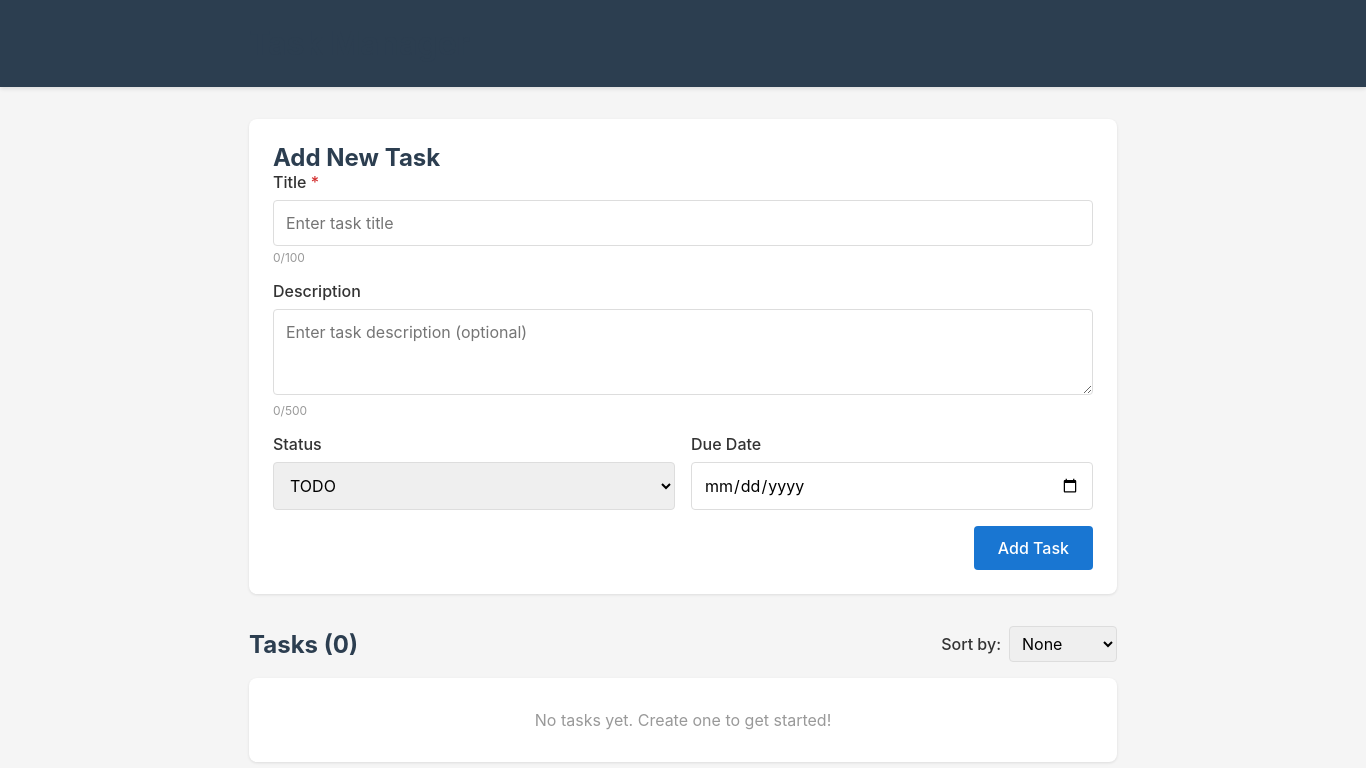
App Component › Create Task › should display custom error message from server
This screenshot has width=1366, height=768.
Type "New Task" into the field labelled "Title *".
click(683, 223); type("New Task")  # box [273, 200, 1093, 246]
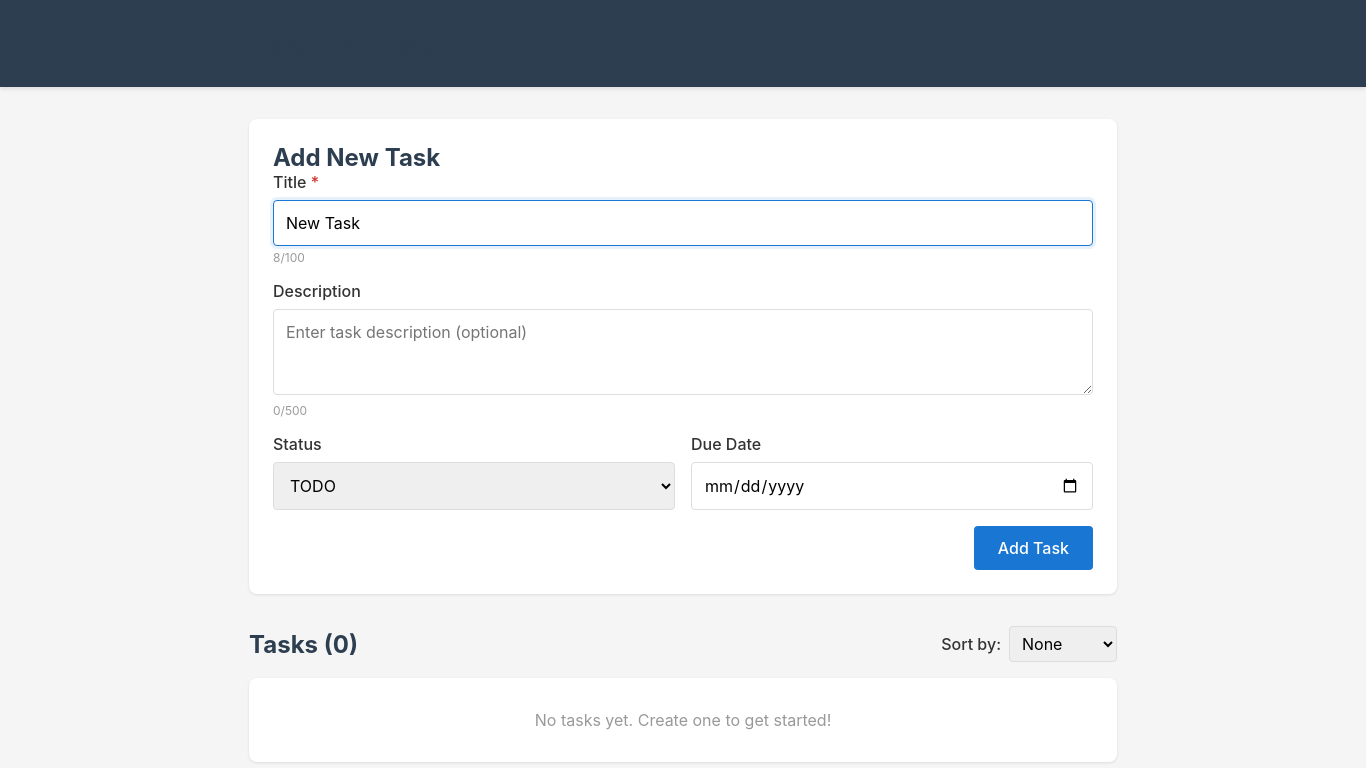
Click the button "Add Task".
click(1033, 548)  # box [974, 526, 1093, 570]
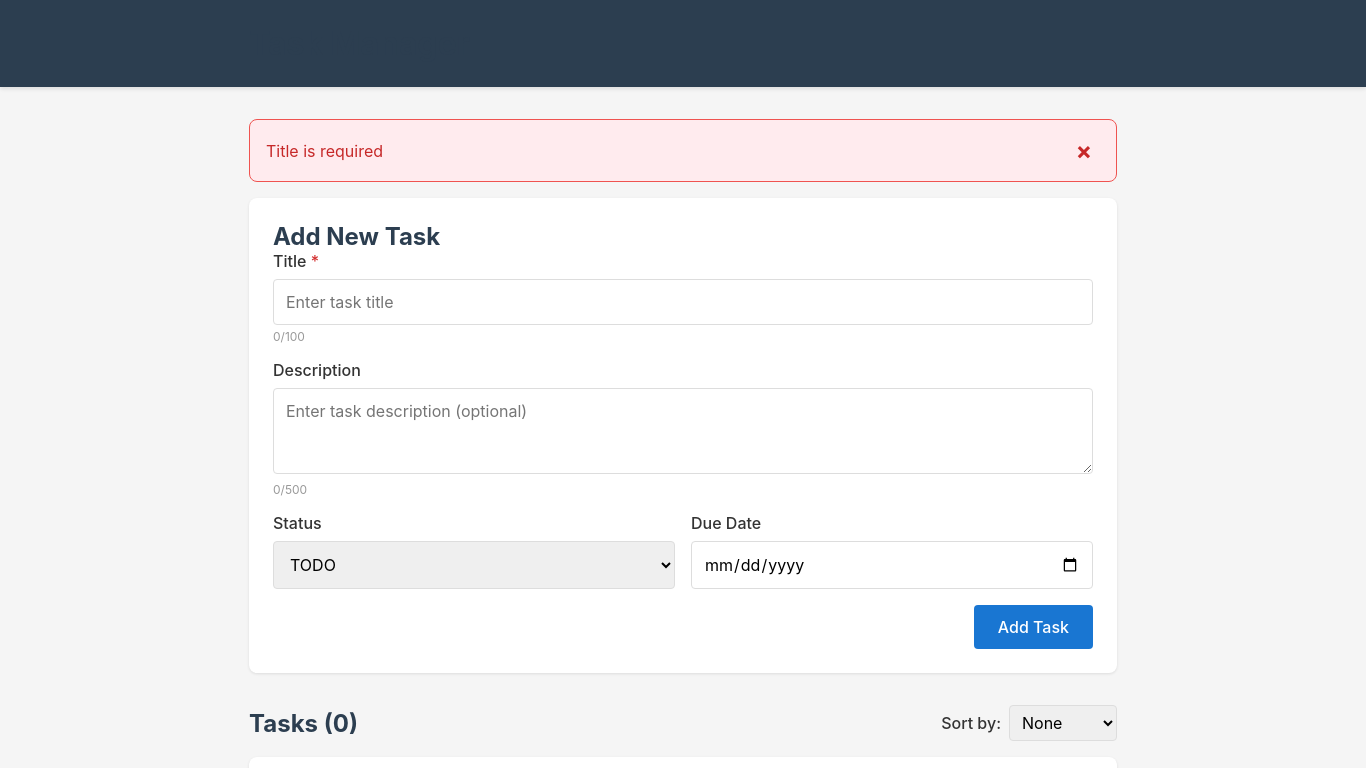
Expected: the text "Title is required" is shown, [266, 140, 383, 160]
